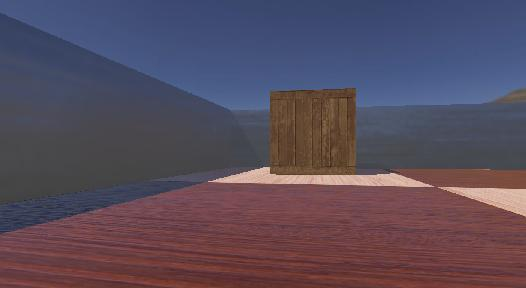WoodenBox: (259, 79, 370, 184)
